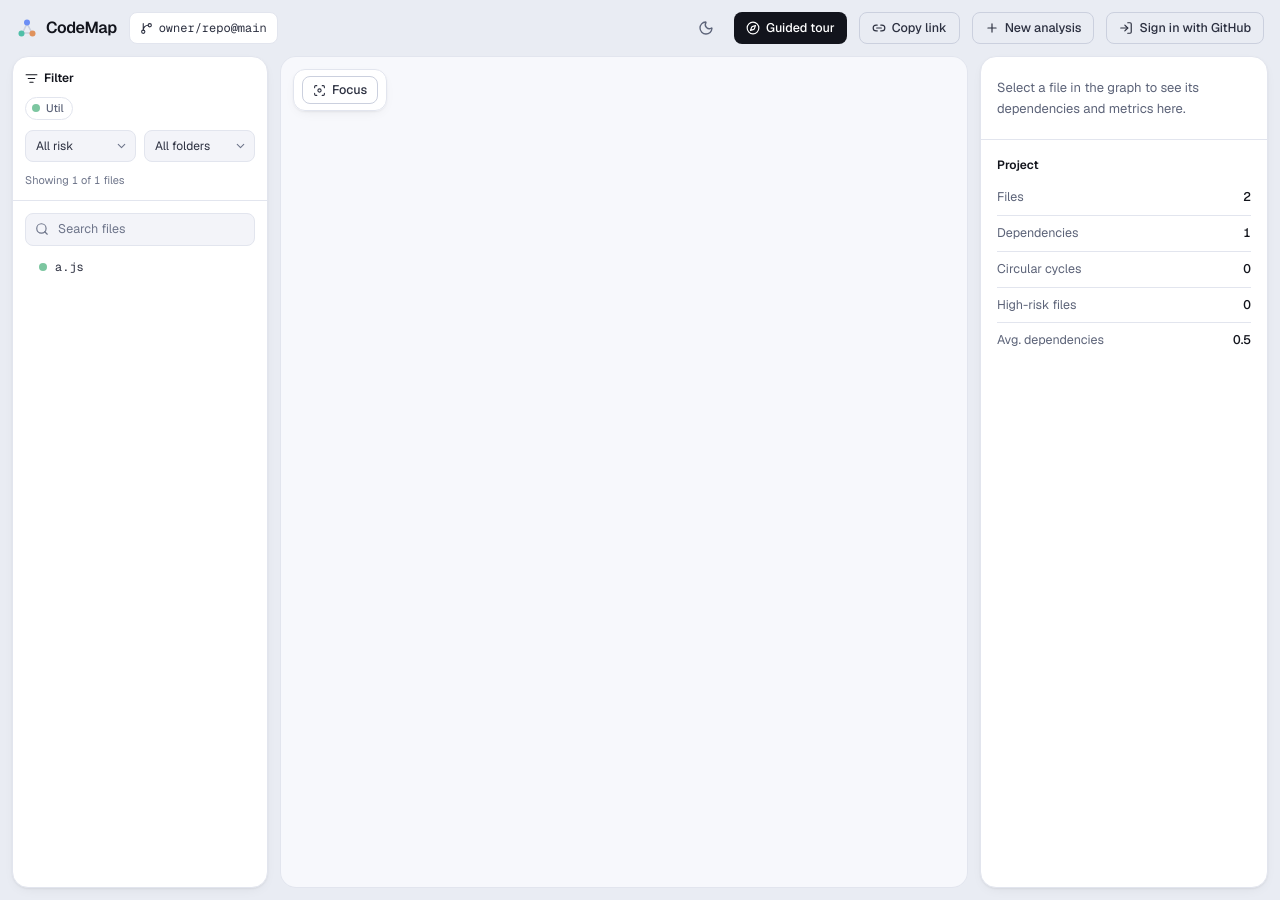
Test: ProjectPage › copies the current URL and shows a confirmation
Click the button "Copy link": (909, 28) [859,12,960,44]
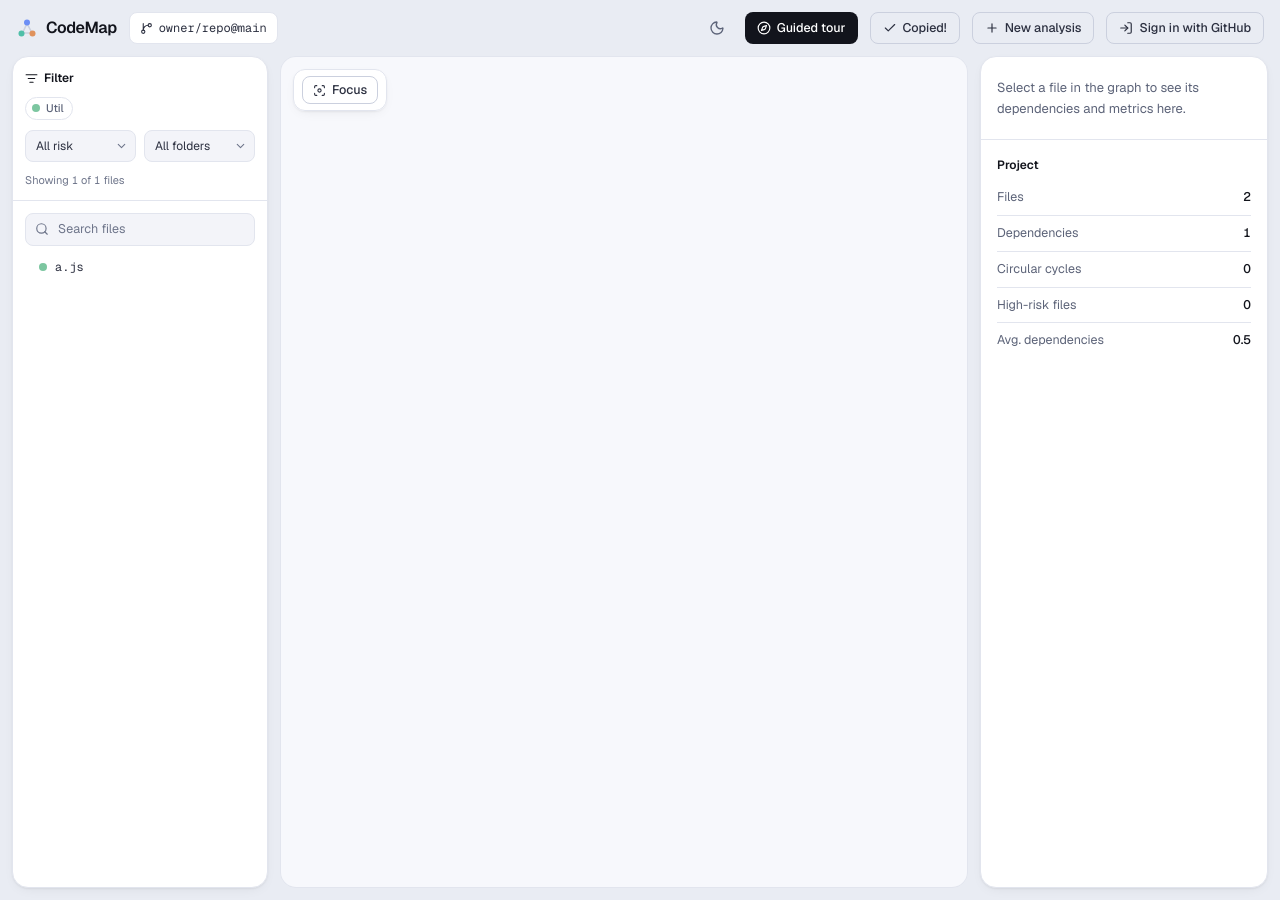
Expected: the button "Copied!" is shown, [870,12,960,44]
